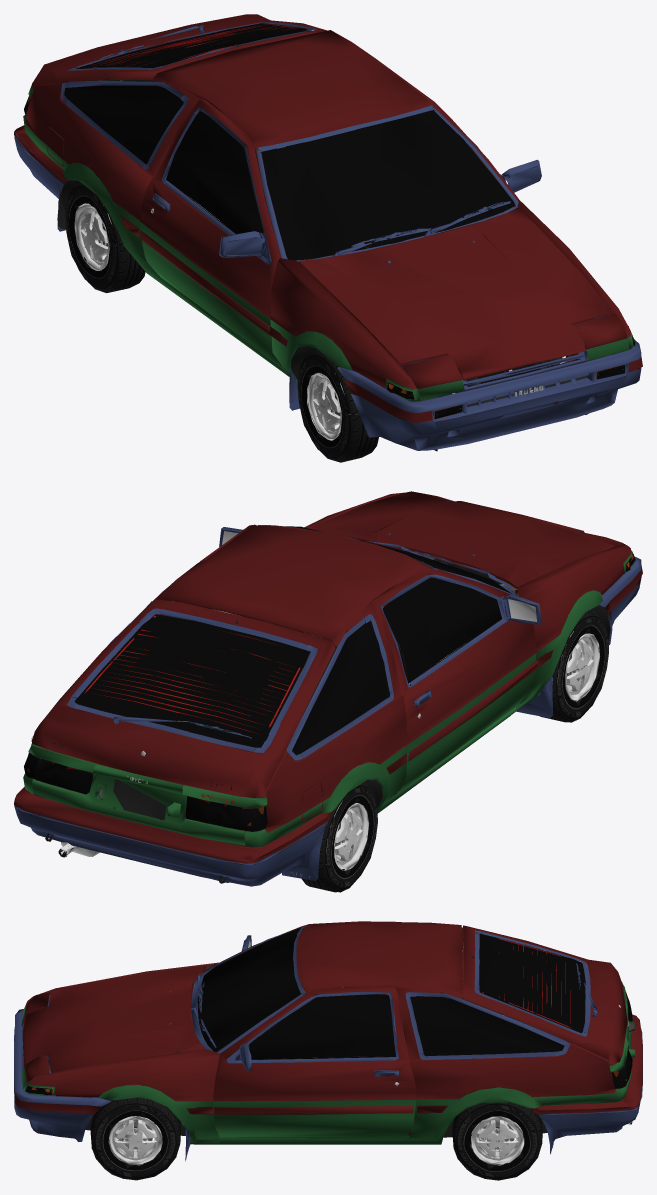
File: 1985-toyota-sprinter-trueno-ae86-c847e7.glb
3 renders of one model, top to bottom at view 1: azimuth 30°, elevation 25°; view 2: azimuth 150°, elevation 25°; view 3: azimuth 270°, elevation 25°, orthographic. The views are drawn at different scales.
Visible parts, largest first — view 1: body, wheel-front-right, wheel-back-right; view 2: body, wheel-back-right, wheel-front-right; view 3: body, wheel-front-left, wheel-back-left.
Part boxes in pixels (box(x1,y1,x2,y2)): body: box(14, 14, 642, 451); wheel-front-right: box(297, 348, 378, 462); wheel-back-right: box(65, 181, 145, 293); body: box(14, 491, 642, 886); wheel-back-right: box(294, 776, 377, 892); wheel-front-right: box(529, 607, 608, 722); body: box(14, 921, 642, 1161); wheel-front-left: box(90, 1097, 180, 1180); wheel-back-left: box(452, 1102, 542, 1180).
Size of the model in its own units: 2.3 by 1.6 by 5.
23 materials, 17 textured.
